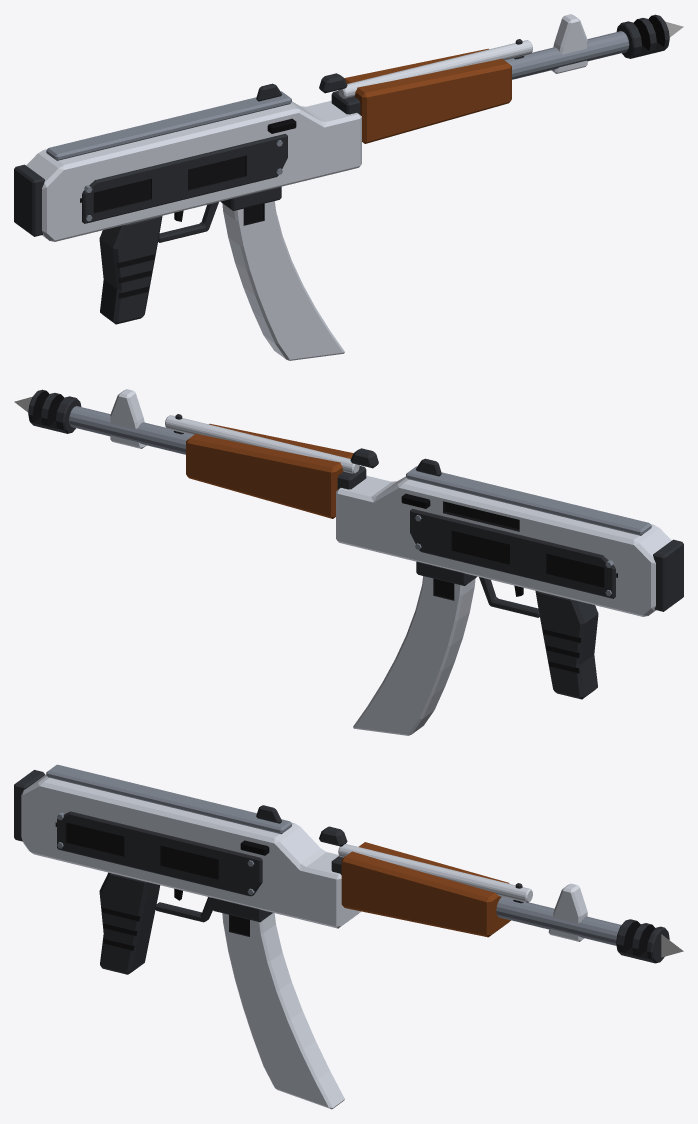
Rendered from assault_rifle42.obj.
The picture shows the model from 3 angles, top to bottom: view 1: azimuth 30°, elevation 25°; view 2: azimuth 150°, elevation 25°; view 3: azimuth 330°, elevation 25°; orthographic projection.
Visible parts, largest first — view 1: body, barrel, mag; view 2: body, barrel, mag; view 3: body, barrel, mag.
Boxes of the visible parts, left/top/right/bottom form: body: left=14, top=14, right=587, bottom=324; barrel: left=344, top=14, right=669, bottom=143; mag: left=222, top=201, right=344, bottom=360; body: left=110, top=389, right=683, bottom=699; barrel: left=28, top=389, right=353, bottom=518; mag: left=353, top=576, right=475, bottom=735; body: left=14, top=764, right=587, bottom=974; barrel: left=341, top=842, right=669, bottom=963; mag: left=222, top=913, right=344, bottom=1109.
Size of the model in its own units: 0.6296 by 0.2558 by 0.052.
